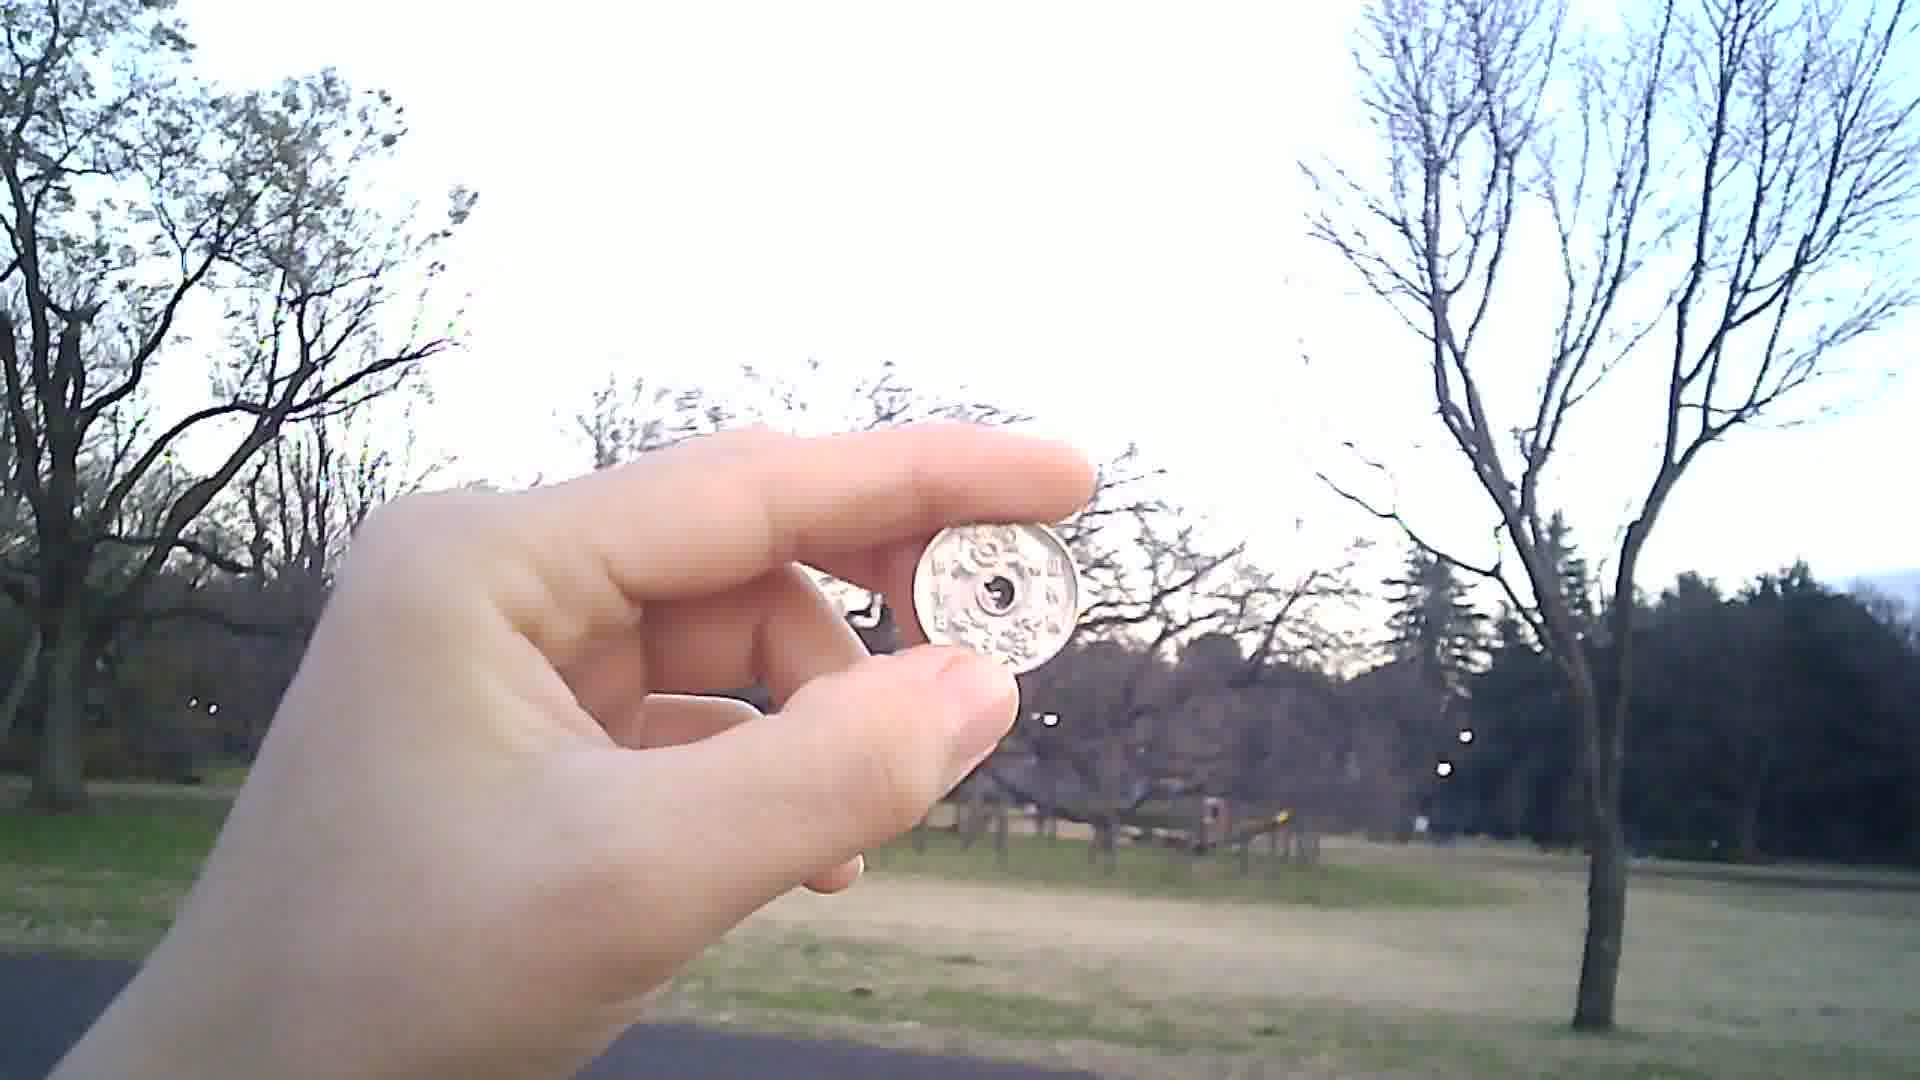50 Yen: (916, 508, 1075, 667)
